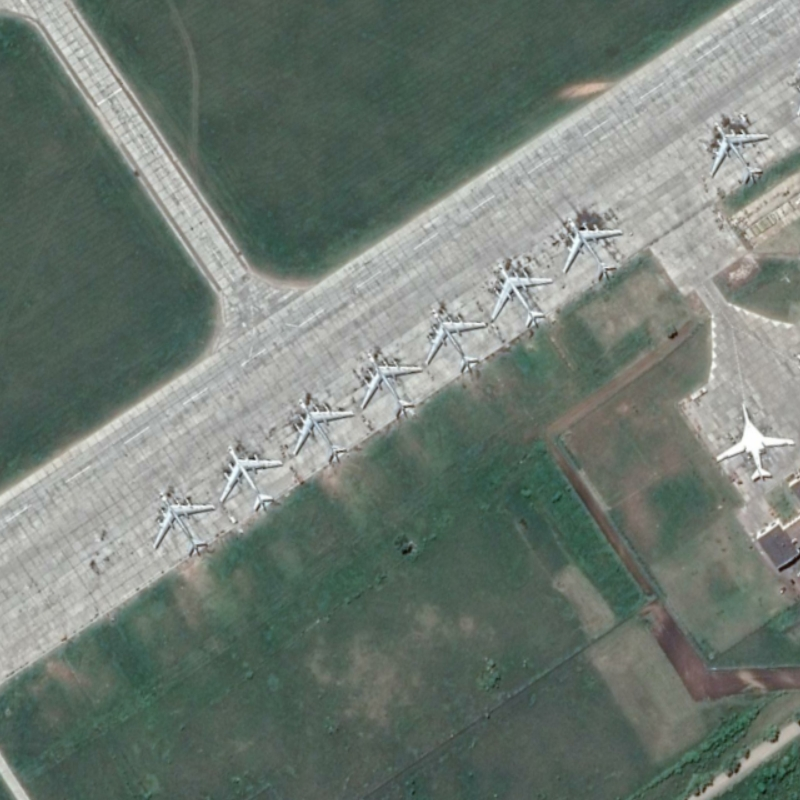A17: (146, 481, 219, 560), (216, 437, 286, 518), (286, 390, 357, 469), (359, 342, 428, 422), (557, 216, 627, 290), (423, 302, 490, 378), (489, 258, 557, 330), (706, 116, 773, 188)
A6: (712, 399, 800, 485)
